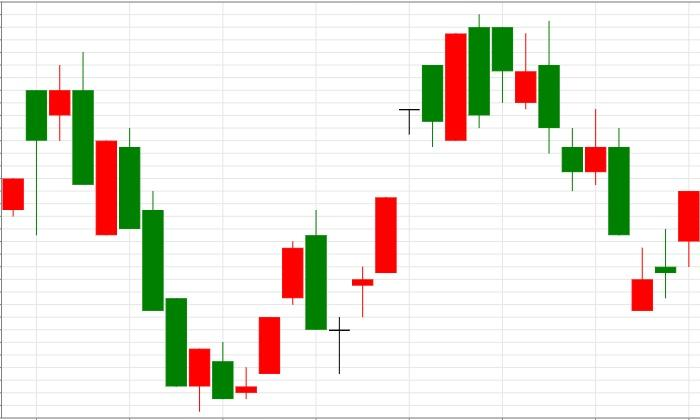bearish_engulfing_fall: (212, 209, 328, 400), (2, 51, 94, 236)
three_white_soldiers_rise: (72, 51, 304, 412)
